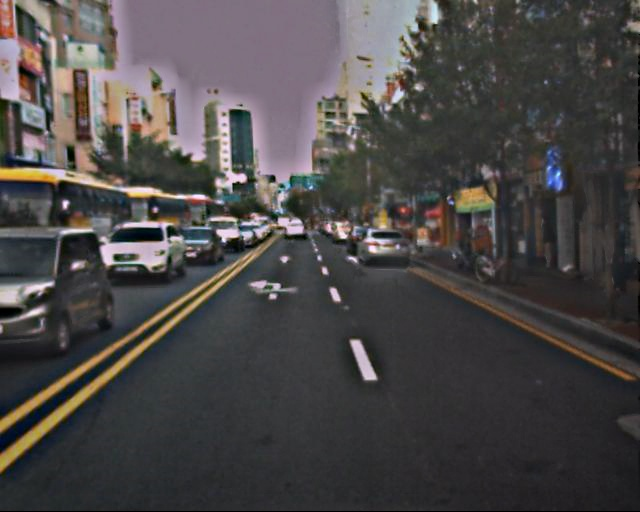person: (597, 222, 633, 293), (533, 214, 559, 276)
